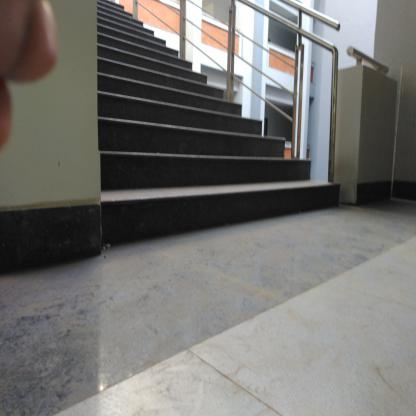stairs: (104, 63, 194, 253)
